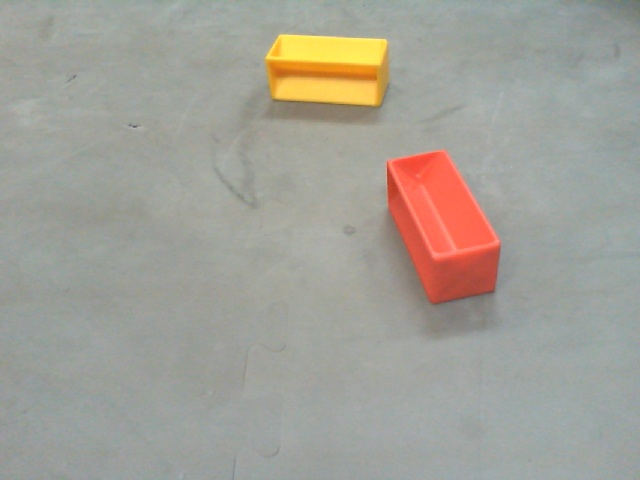RedSample: (384, 149, 503, 305)
YellowSample: (262, 29, 392, 107)
